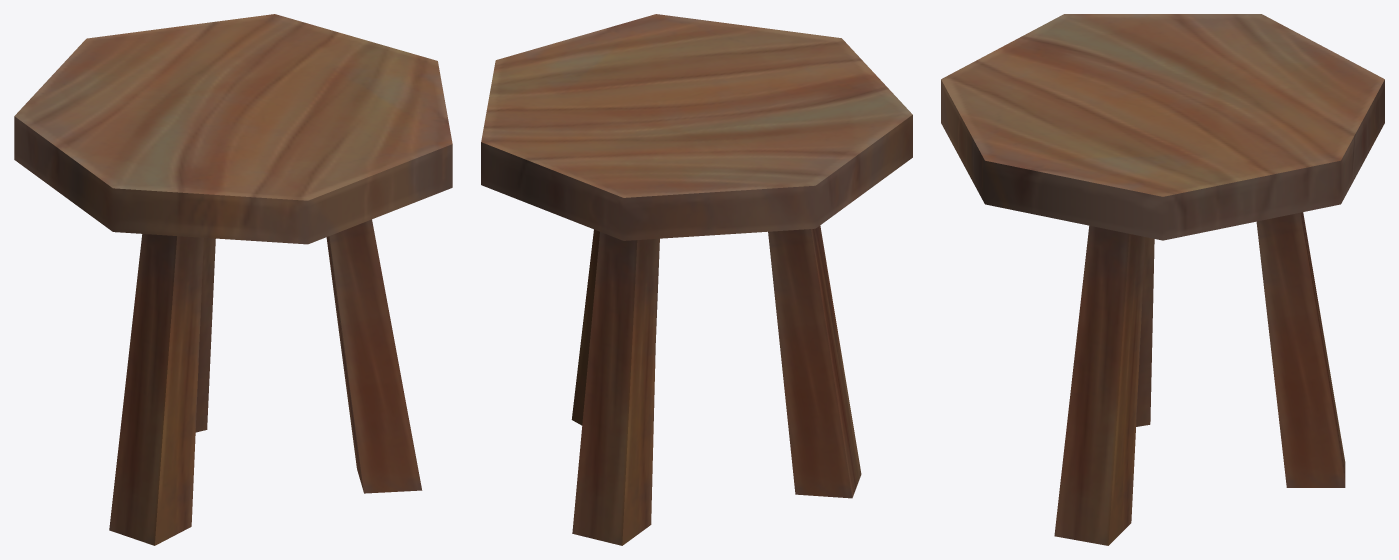
File: furnitureSet_table.FBX
3 renders of one model, left to right at view 1: azimuth 30°, elevation 25°; view 2: azimuth 150°, elevation 25°; view 3: azimuth 270°, elevation 25°, orthographic.
Visible parts, largest first — view 1: furnitureSet_table; view 2: furnitureSet_table; view 3: furnitureSet_table.
Part boxes in pixels (x1,y1,x2,y2): furnitureSet_table: (14, 14, 452, 545); furnitureSet_table: (481, 14, 912, 545); furnitureSet_table: (941, 14, 1384, 545).
Size of the model in its own units: 61.04 by 58.12 by 62.61.
1 material, 1 textured.
